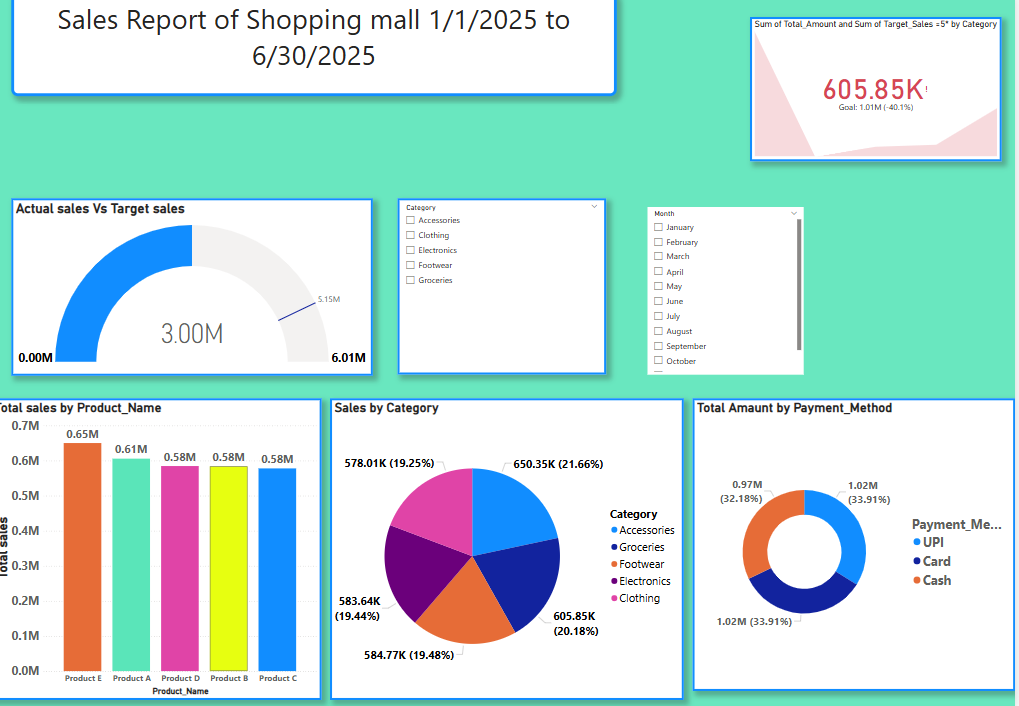

This screenshot's page, from the dashboard's own definition file:
{"tool":"powerbi","page":{"name":"Page 1","canvas":[1800,1400],"ordinal":0},"visuals":[{"type":"gauge","fields":{"Y":["Sum(Sheet1.Total_Amount)"],"TargetValue":["Sum(Sheet1.Target_Sales =5*)"]},"box":[0,268.4,279.2,279.2],"z":0},{"type":"slicer","fields":{"Values":["Sheet1.Category"]},"box":[303,268.4,281.4,279.2],"z":1000},{"type":"kpi","fields":{"Indicator":["Sum(Sheet1.Total_Amount)"],"Goal":["Sum(Sheet1.Target_Sales =5*)"],"TrendLine":["Sheet1.Category"]},"box":[625.5,270.6,491.3,281.4],"z":2000},{"type":"clusteredColumnChart","fields":{"Category":["Sheet1.Product_Name"],"Y":["Sum(Sheet1.Total_Amount)"]},"box":[0,560.6,606.1,381],"z":3000},{"type":"pieChart","fields":{"Category":["Sheet1.Category"],"Y":["Sum(Sheet1.Total_Amount)"]},"box":[625.5,560.6,491.3,381],"z":5000},{"type":"donutChart","fields":{"Y":["Sum(Sheet1.Total_Amount)"],"Category":["Sheet1.Payment_Method"]},"box":[1121.2,549.8,627.7,391.8],"z":6000},{"type":"lineChart","fields":{"Y":["Sum(Sheet1.Total_Amount)"],"Category":["Sheet1.Date.Variation.Date Hierarchy.Year","Sheet1.Date.Variation.Date Hierarchy.Quarter","Sheet1.Date.Variation.Date Hierarchy.Month","Sheet1.Date.Variation.Date Hierarchy.Day"]},"box":[645,941.6,1155.8,458.9],"z":7000},{"type":"slicer","fields":{"Values":["Sheet1.Date.Variation.Date Hierarchy.Month"]},"box":[1140.7,270.6,246.8,279.2],"z":8000},{"type":"textbox","title":"S","box":[41.1,0,1181.8,203.5],"z":8001}]}

Visuals, with their boxes on the page's 1800x1400 design canvas (x1, y1, x2, y2). These are canvas units, not pixel positions in the 1019x706 screenshot, which may show the page scaled, cropped or inside an application window:
gauge - Sum(Sheet1.Total_Amount) x Sum(Sheet1.Target_Sales =5*): 0:268:279:548
slicer - Sheet1.Category: 303:268:584:548
kpi - Sum(Sheet1.Total_Amount) x Sum(Sheet1.Target_Sales =5*): 626:271:1117:552
clusteredColumnChart - Sheet1.Product_Name x Sum(Sheet1.Total_Amount): 0:561:606:942
pieChart - Sheet1.Category x Sum(Sheet1.Total_Amount): 626:561:1117:942
donutChart - Sum(Sheet1.Total_Amount) x Sheet1.Payment_Method: 1121:550:1749:942
lineChart - Sum(Sheet1.Total_Amount) x Sheet1.Date.Variation.Date Hierarchy.Year: 645:942:1801:1400
slicer - Sheet1.Date.Variation.Date Hierarchy.Month: 1141:271:1388:550
"S" textbox: 41:0:1223:204
